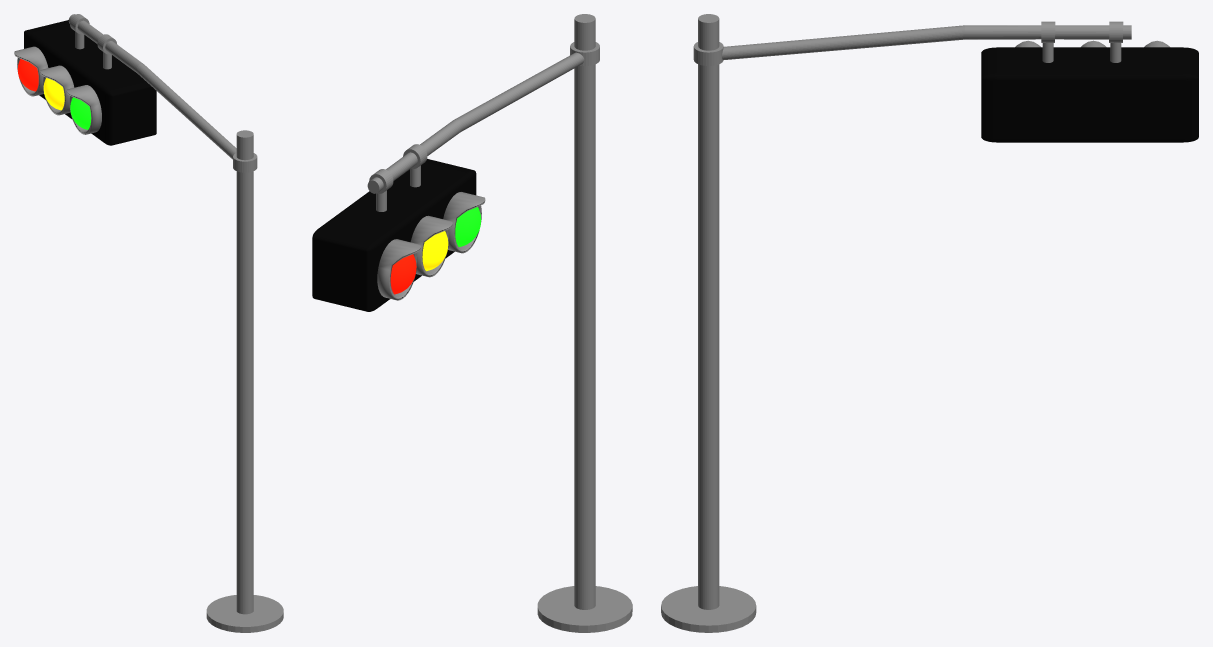
The model's file is TrafficLight.fbx.
3 views of the same model, side by side, from view 1: azimuth 30°, elevation 25°; view 2: azimuth 150°, elevation 25°; view 3: azimuth 270°, elevation 25° (orthographic). The views are drawn at different scales.
Parts seen in each view (by area): view 1: Cylinder.002; view 2: Cylinder.002; view 3: Cylinder.002.
Part boxes in pixels (<box>): Cylinder.002: <box>14,14,283,632</box>; Cylinder.002: <box>312,14,632,632</box>; Cylinder.002: <box>661,14,1198,632</box>.
Bounding box in the file's own units: 281 × 1602 × 1314.
